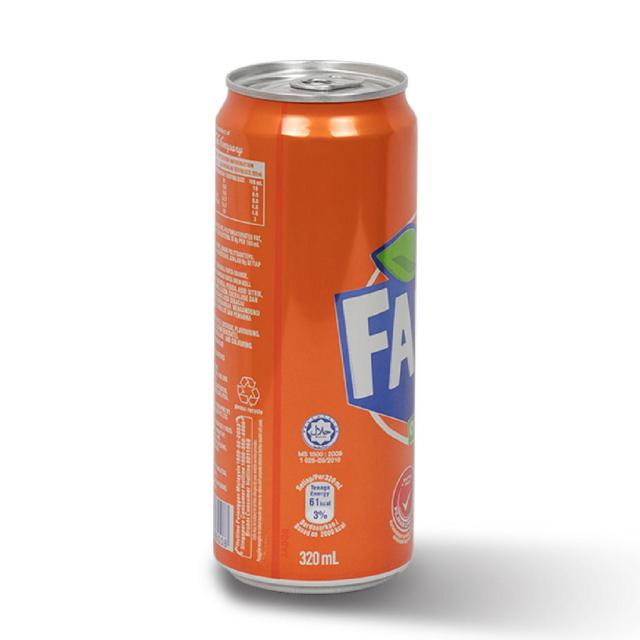fanta: (213, 64, 420, 594)
